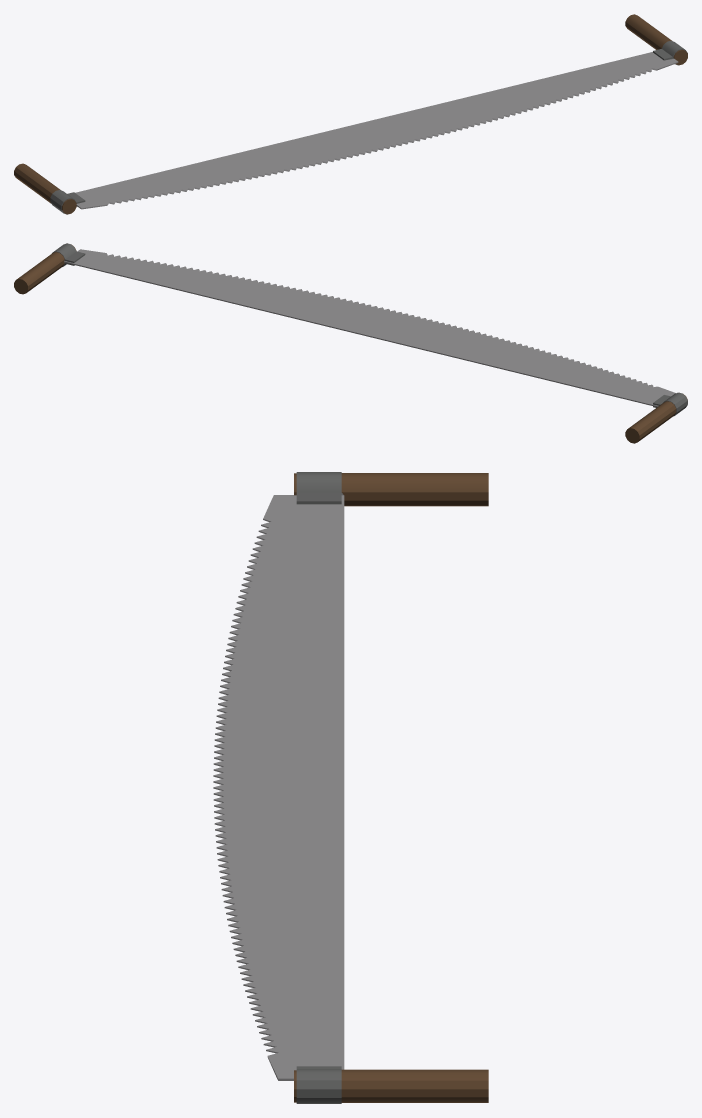
The model's file is Saw_1.fbx.
3 views of the same model, one above another, from view 1: azimuth 30°, elevation 25°; view 2: azimuth 150°, elevation 25°; view 3: azimuth 270°, elevation 25° (orthographic). The views are drawn at different scales.
Visible parts, largest first — view 1: Saw_1; view 2: Saw_1; view 3: Saw_1.
Boxes of the visible parts, x1,y1,x2,y2 form: Saw_1: [14, 14, 687, 214]; Saw_1: [14, 243, 687, 443]; Saw_1: [213, 472, 488, 1103].
Bounding box in the file's own units: 156 × 3.71 × 29.6.
